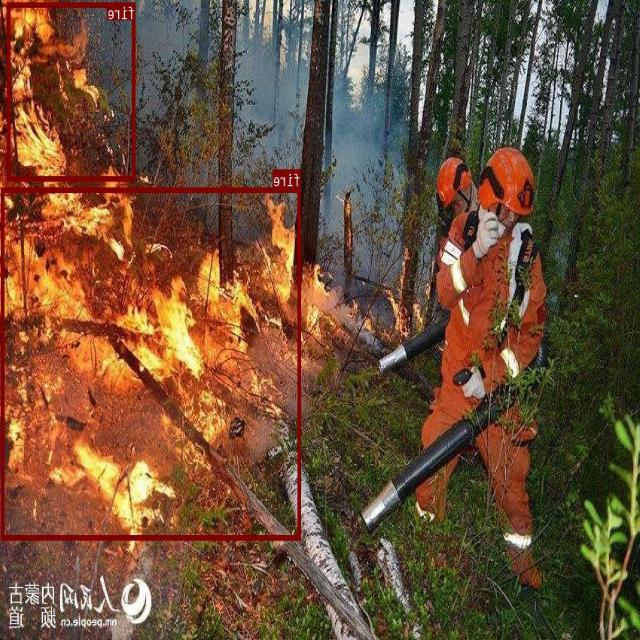fire: (2, 187, 301, 539), (8, 2, 136, 180)
